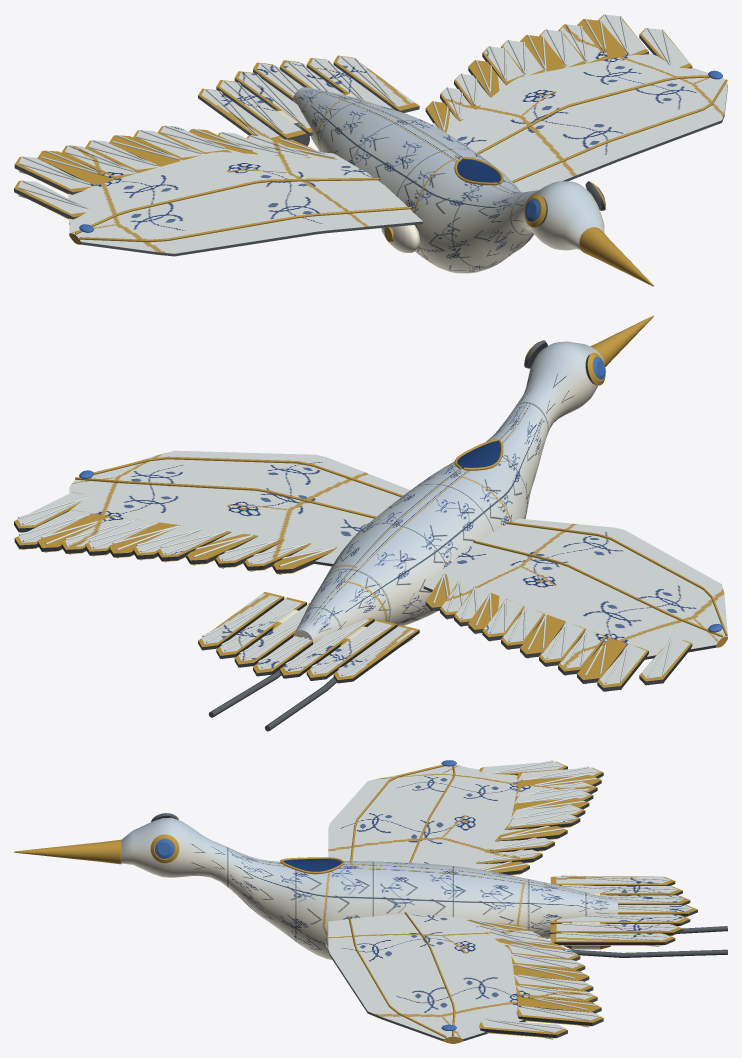
3 views of the same model, one above another, from view 1: azimuth 30°, elevation 25°; view 2: azimuth 150°, elevation 25°; view 3: azimuth 270°, elevation 25° (orthographic). The views are drawn at different scales.
Parts seen in each view (by area): view 1: egret_hull; view 2: egret_hull; view 3: egret_hull.
Boxes of the visible parts, box(x1,y1,x2,y2) form: egret_hull: box(14, 14, 727, 286); egret_hull: box(14, 315, 727, 731); egret_hull: box(14, 760, 727, 1043).
Size of the model in its own units: 36.2 by 8.4 by 40.
Materials: 1 (1 with a texture image).
